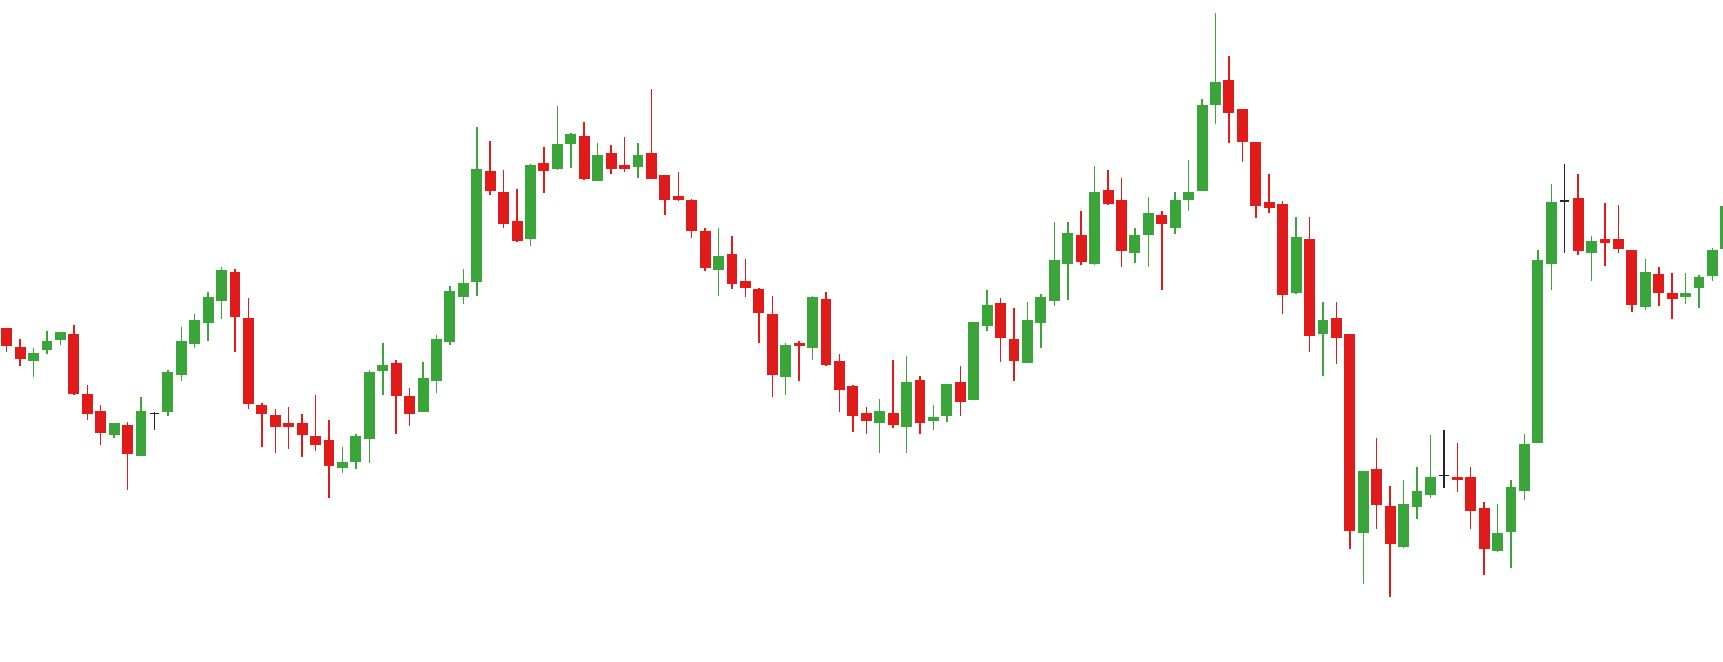buy: (120, 334, 349, 499), (1072, 207, 1170, 295)
sell: (469, 104, 594, 212)
